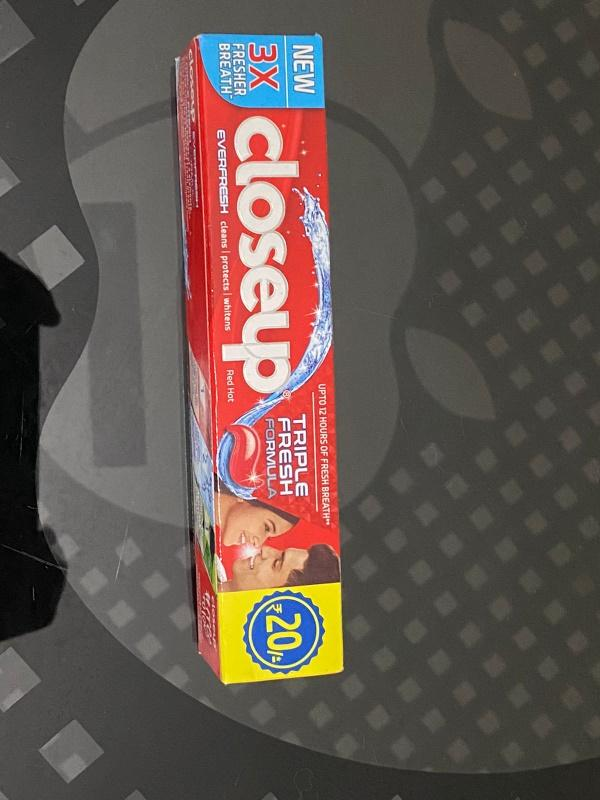CloseUp: (151, 40, 372, 698)
